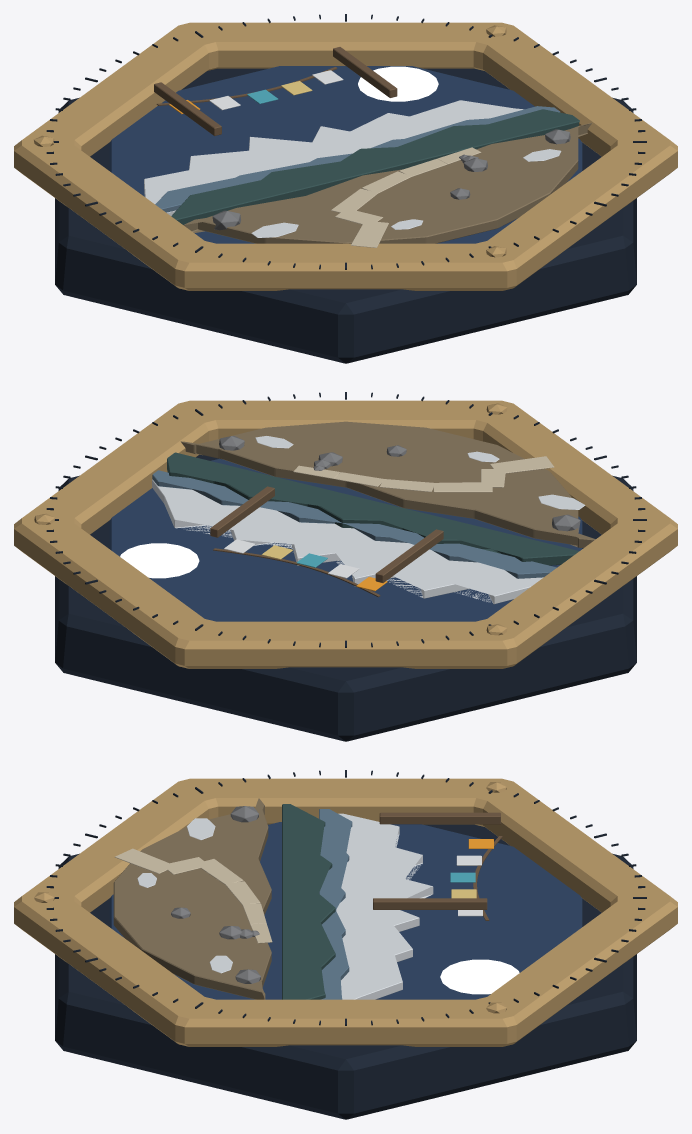
The model's file is trail_high.glb.
The picture shows the model from 3 angles, top to bottom: view 1: azimuth 30°, elevation 25°; view 2: azimuth 150°, elevation 25°; view 3: azimuth 270°, elevation 25°; orthographic projection.
Visible parts, largest first — view 1: BG_FrameRing, BG_BasePlate, BG_Field, TH_Plateau, TH_Ridge, TH_Peaks, TH_Trail, TH_PeakShade, TH_FlagPoles, TH_Sun, BG_TickScale, TH_SnowPatches (+2 smaller); view 2: BG_FrameRing, BG_BasePlate, BG_Field, TH_Plateau, TH_Peaks, TH_Ridge, TH_PeakShade, TH_Trail, TH_Sun, TH_FlagPoles, BG_TickScale, TH_SnowPatches (+2 smaller); view 3: BG_FrameRing, BG_BasePlate, BG_Field, TH_Plateau, TH_Peaks, TH_Ridge, TH_PeakShade, TH_FlagPoles, TH_Trail, TH_Sun, BG_TickScale, TH_SnowPatches (+2 smaller).
Boxes of the visible parts, x1,y1,x2,y2 form: BG_FrameRing: (14,22,677,290); BG_BasePlate: (55,68,636,363); BG_Field: (109,66,582,243); TH_Plateau: (183,123,591,243); TH_Ridge: (171,109,579,224); TH_Peaks: (144,100,523,215); TH_Trail: (331,147,481,247); TH_PeakShade: (155,106,560,212); TH_FlagPoles: (154,47,397,135); TH_Sun: (358,66,438,101); BG_TickScale: (46,14,646,269); TH_SnowPatches: (251,149,561,237); BG_FrameRing: (14,400,677,668); BG_BasePlate: (55,454,636,741); BG_Field: (109,458,582,621); TH_Plateau: (180,421,595,547); TH_Peaks: (152,479,543,604); TH_Ridge: (167,452,579,565); TH_PeakShade: (152,470,556,578); TH_Trail: (293,456,554,492); TH_Sun: (120,543,199,578); TH_FlagPoles: (210,486,443,582); BG_TickScale: (46,392,646,647); TH_SnowPatches: (255,436,585,509); BG_FrameRing: (14,778,677,1046); BG_BasePlate: (55,824,636,1119); BG_Field: (109,822,582,999); TH_Plateau: (113,798,271,999); TH_Peaks: (336,813,433,999); TH_Ridge: (282,804,335,999); TH_PeakShade: (319,809,352,999); TH_FlagPoles: (373,812,500,909); TH_Trail: (115,848,272,943); TH_Sun: (440,959,519,994); BG_TickScale: (46,770,646,1025); TH_SnowPatches: (137,818,232,973).
Bounding box in the file's own units: 0.0393 × 0.00744 × 0.0394.
